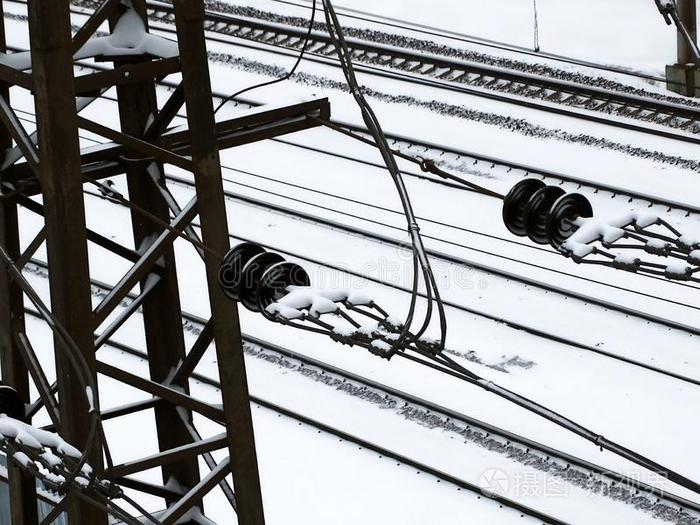insulator: (216, 237, 311, 326), (501, 178, 596, 254)
